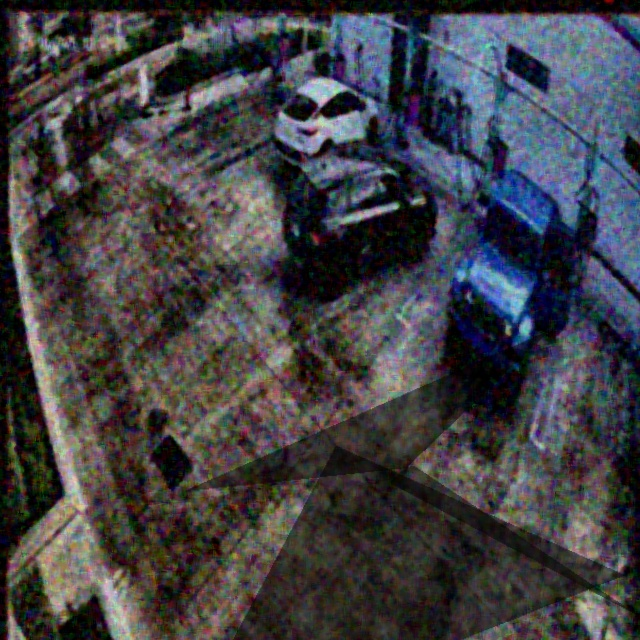Car: (449, 170, 575, 401), (287, 148, 438, 293), (276, 77, 377, 171)
